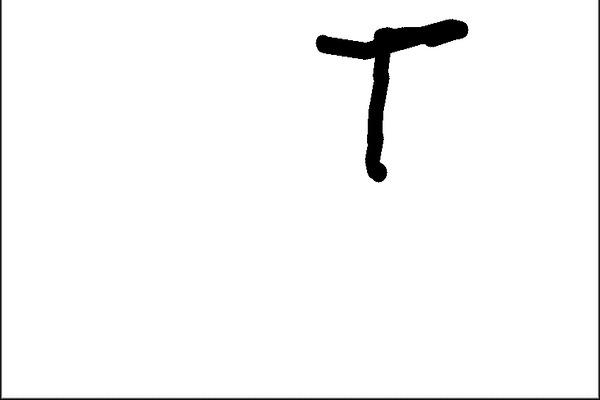T: (309, 17, 469, 179)
